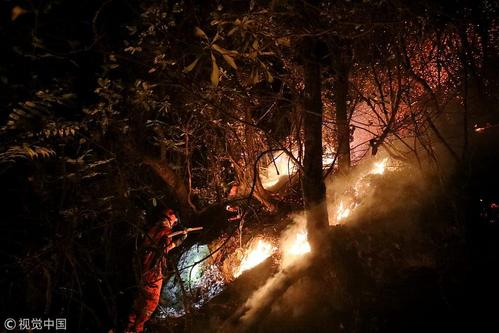fire: (259, 141, 398, 222), (227, 225, 316, 275)
